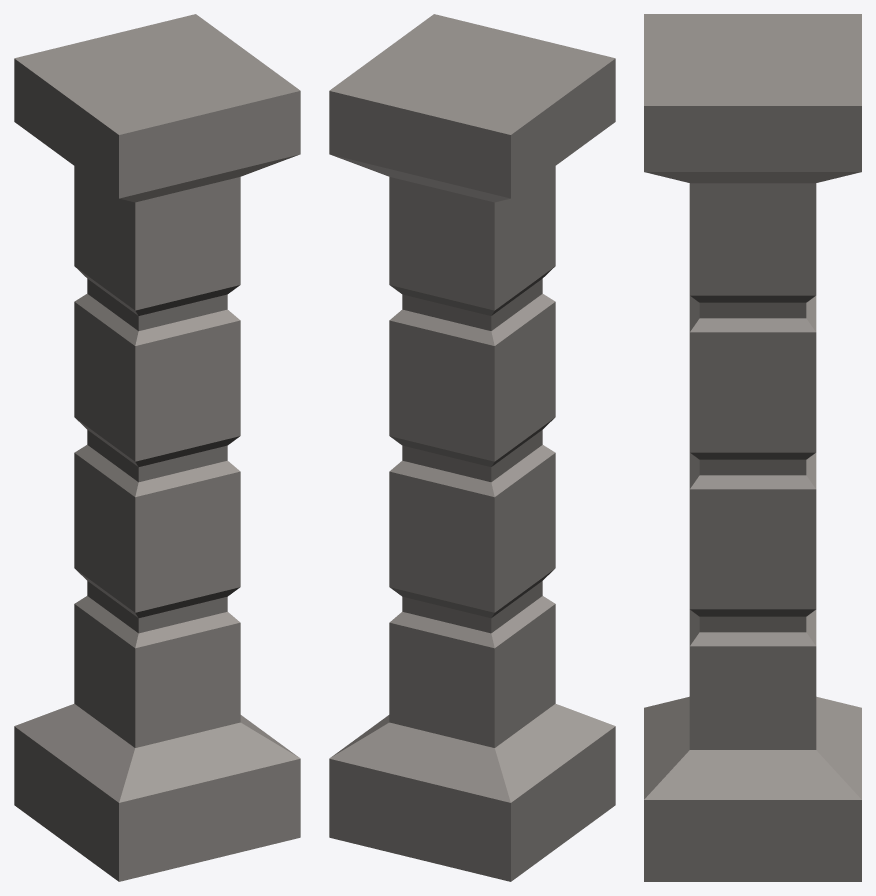
Rendered from SD_Env_Pillar_Stone_01.fbx.
3 renders of one model, left to right at view 1: azimuth 30°, elevation 25°; view 2: azimuth 150°, elevation 25°; view 3: azimuth 270°, elevation 25°, orthographic. The views are drawn at different scales.
Parts seen in each view (by area): view 1: SD_Env_Pillar_Stone_01; view 2: SD_Env_Pillar_Stone_01; view 3: SD_Env_Pillar_Stone_01.
Boxes of the visible parts, x1,y1,x2,y2 form: SD_Env_Pillar_Stone_01: (14,14,300,881); SD_Env_Pillar_Stone_01: (329,14,615,881); SD_Env_Pillar_Stone_01: (644,14,861,881).
Size of the model in its own units: 1.28 by 5.01 by 1.28.
